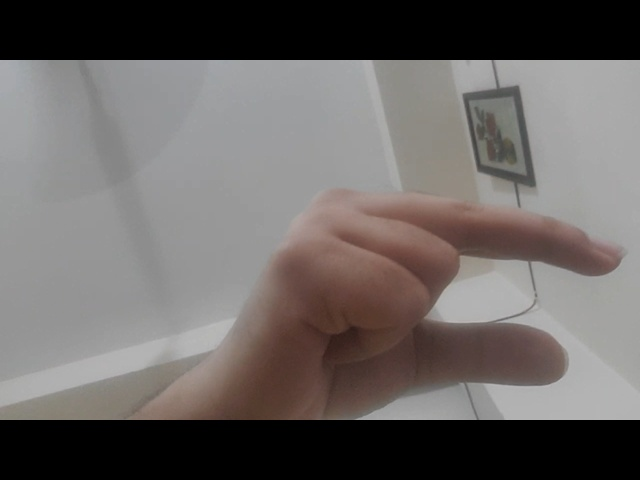No: (169, 160, 633, 416)
